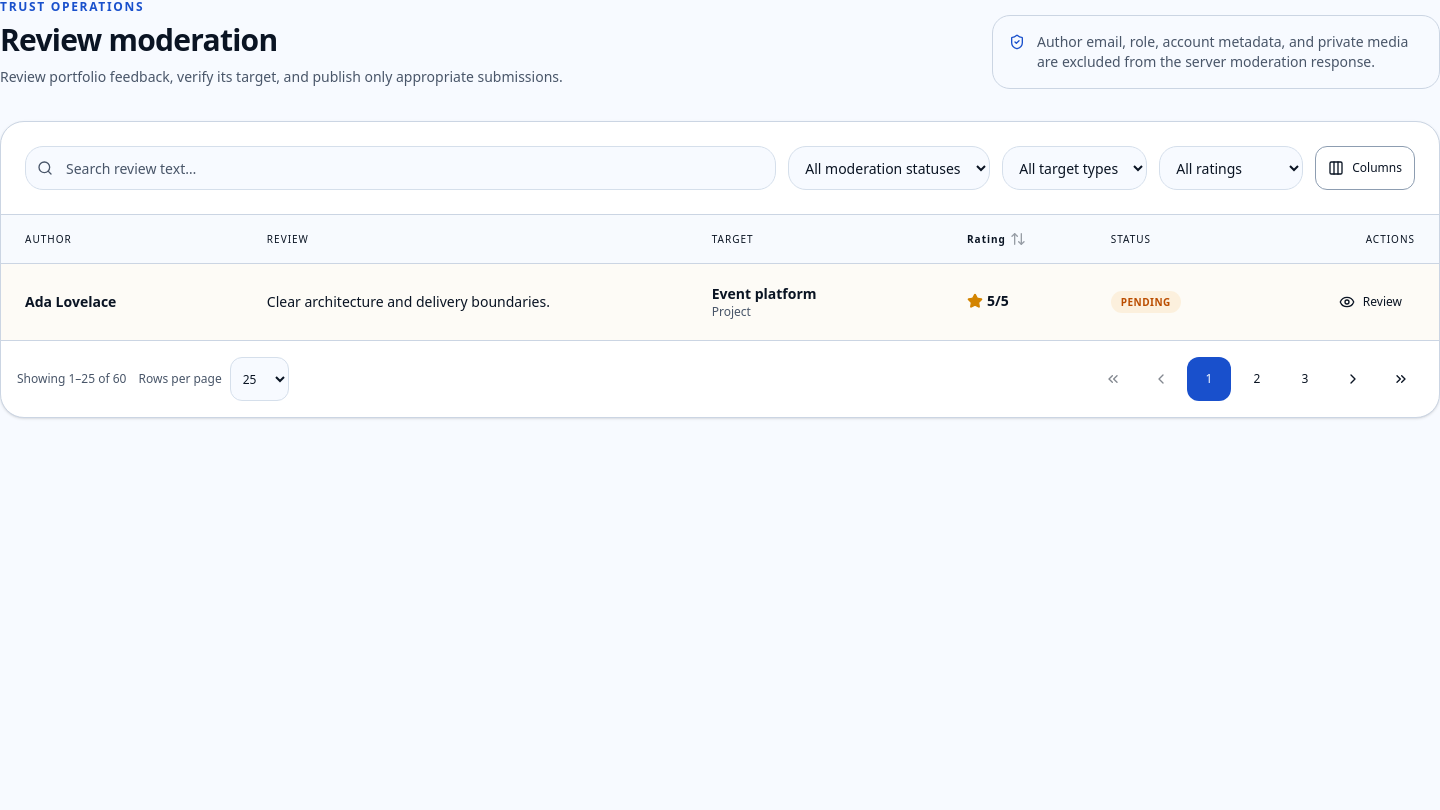
review moderation workspace › opens safe detail, moderates all supported states, and clears on close
This screenshot has width=1440, height=810.
Expected: the text "Ada Lovelace" is shown, [25,292,116,311]
Click the button named "Review moderation detail from Ada Lovelace": (1370, 302) [1326,280,1415,324]
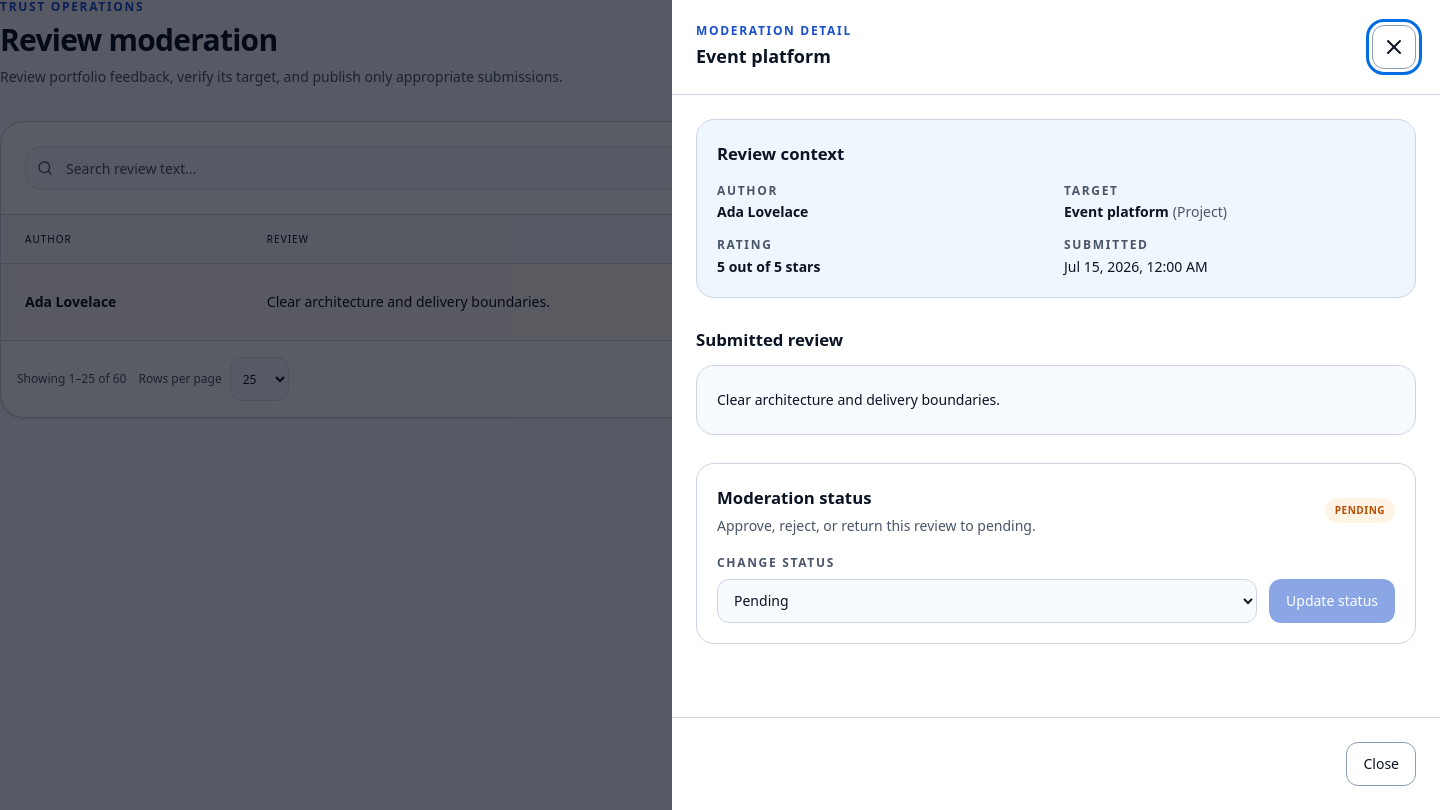
Result: the text "Clear architecture and delivery boundaries." is shown at [696,366,1416,436]
Select "Approved" in the dropdown labelled "Change status": (987, 600) [717,578,1257,622]
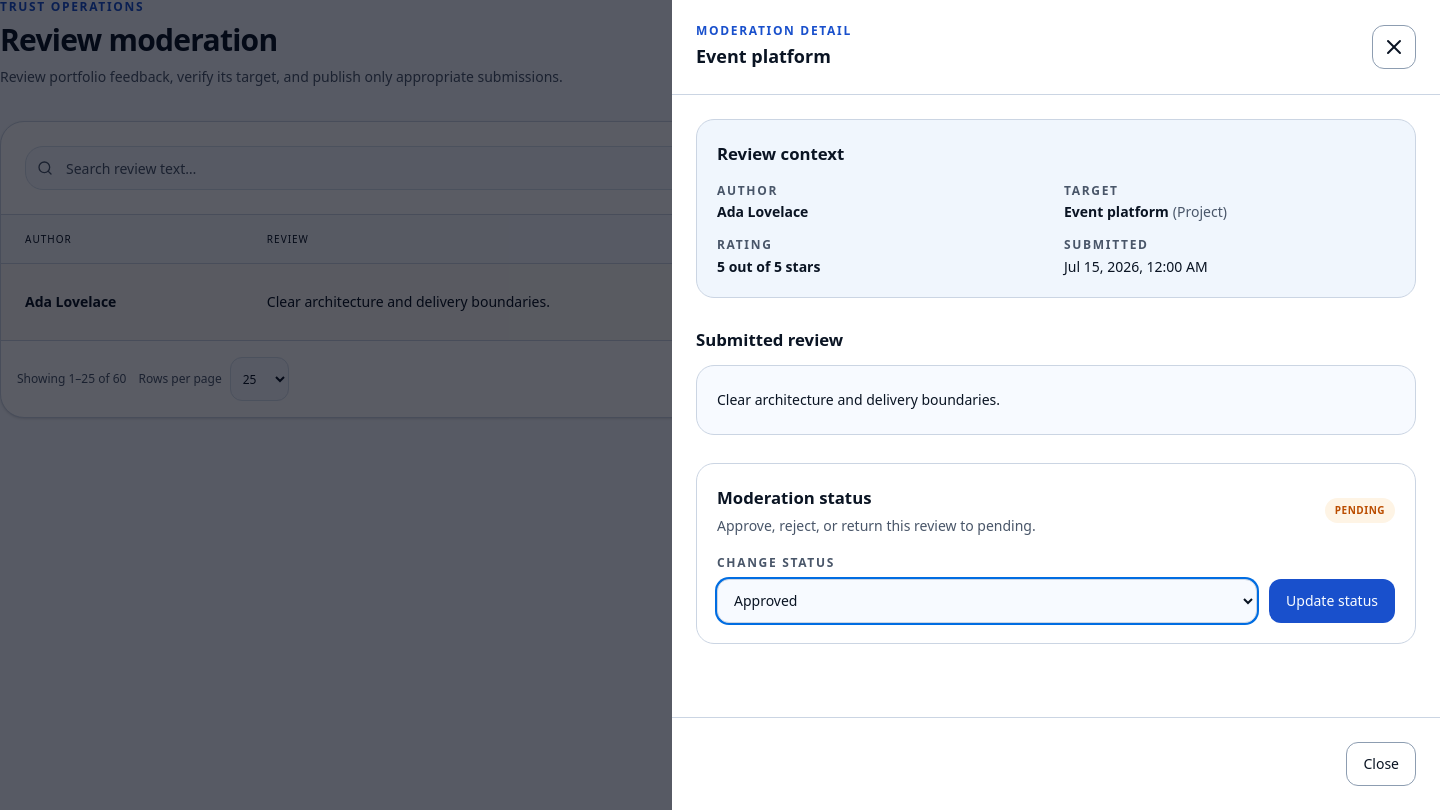
Click the button "Update status": (1332, 600) [1269,578,1395,622]
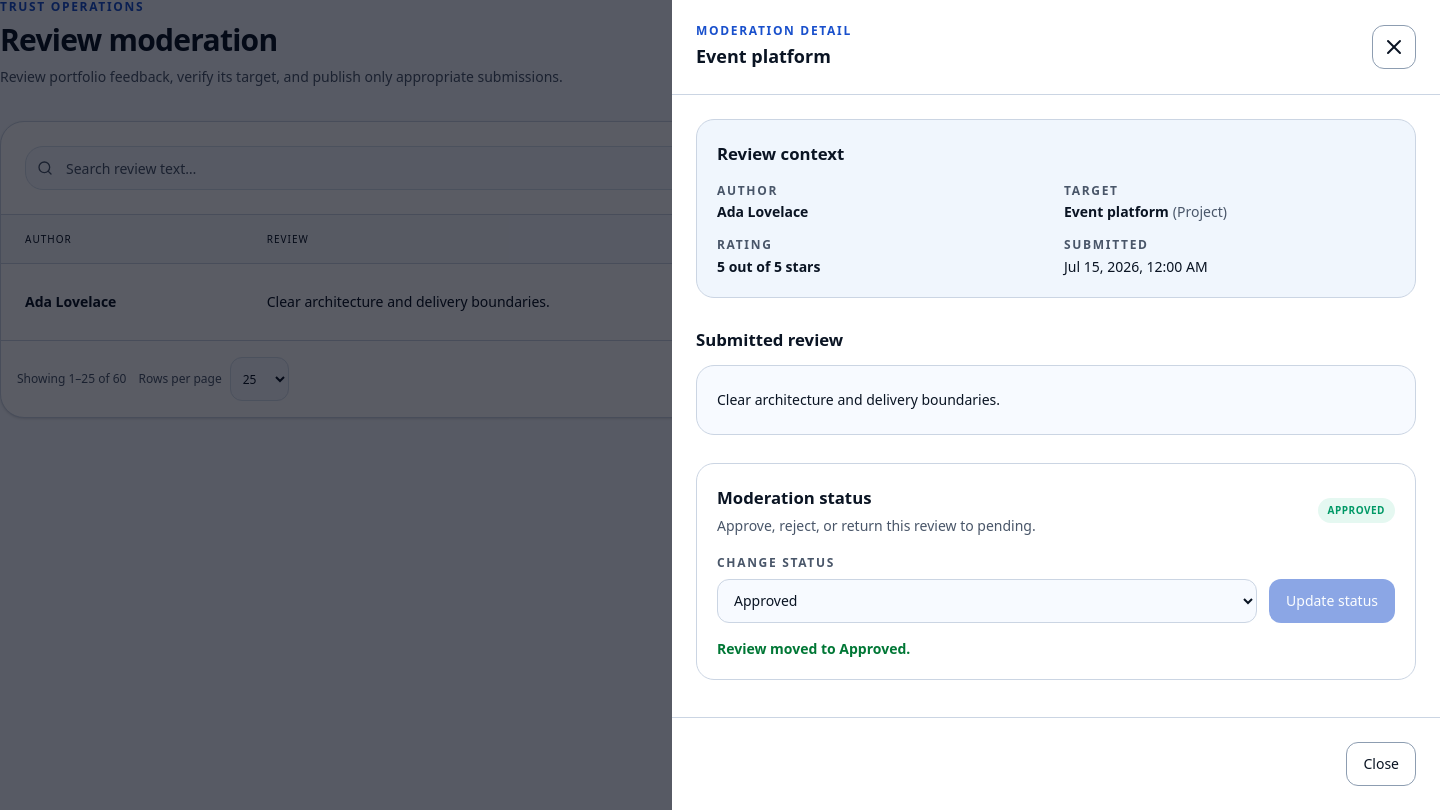
Result: the text "Review moved to Approved." is shown at [717,638,910,658]
Press Escape
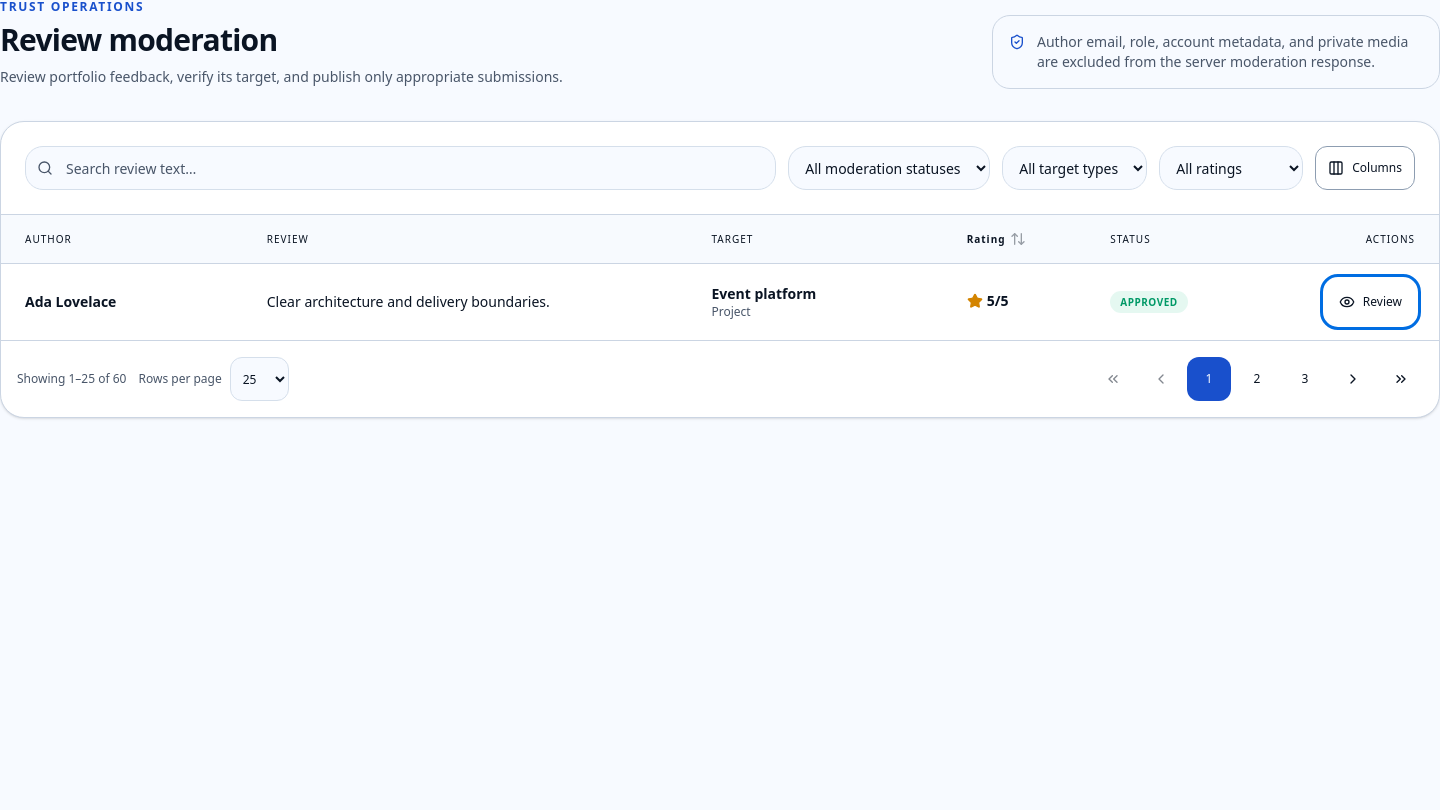
Result: the dialog is gone
Click the button named "Review moderation detail from Ada Lovelace": (1370, 302) [1326,280,1415,324]
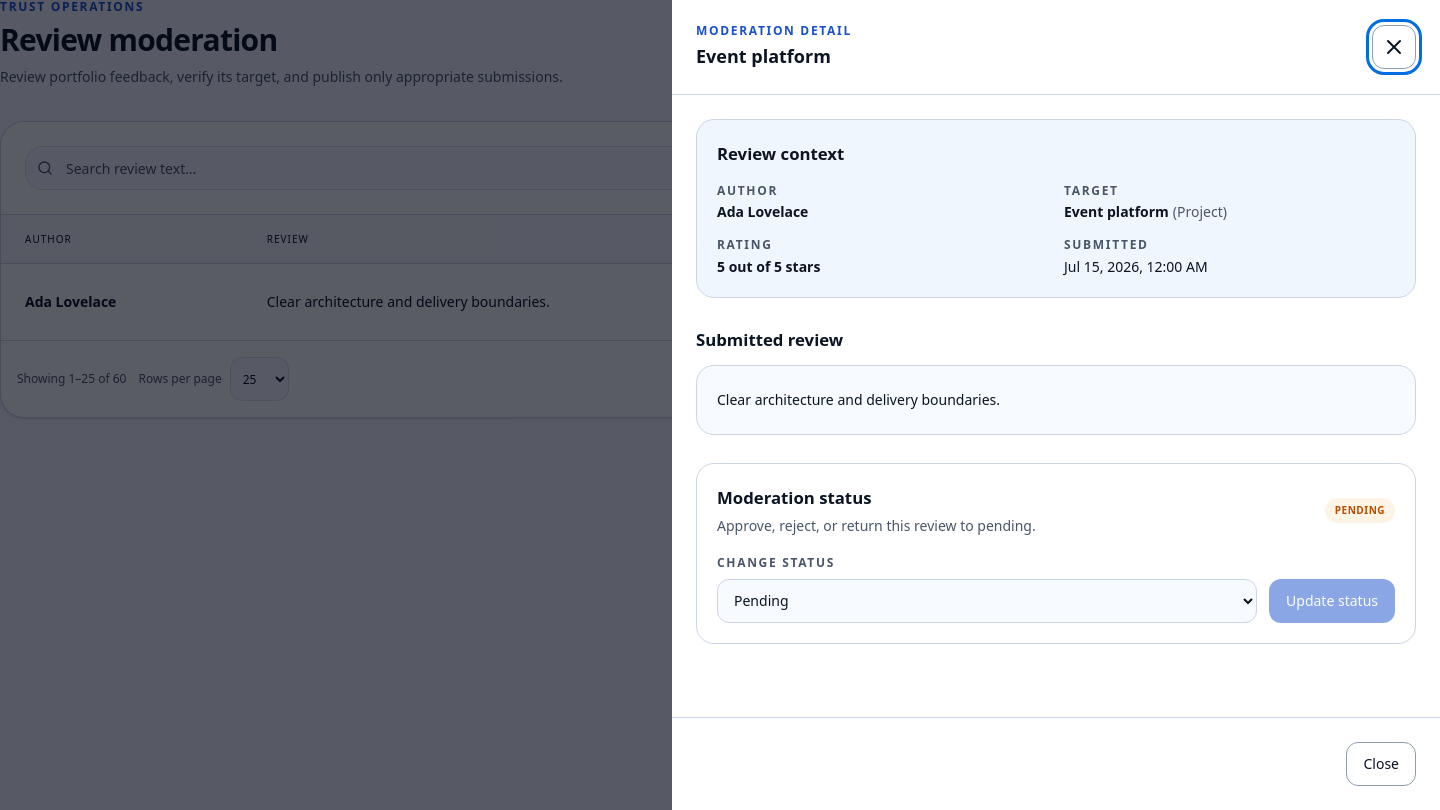
Result: the element named "Loading review detail" is shown at [696,119,1416,644]
